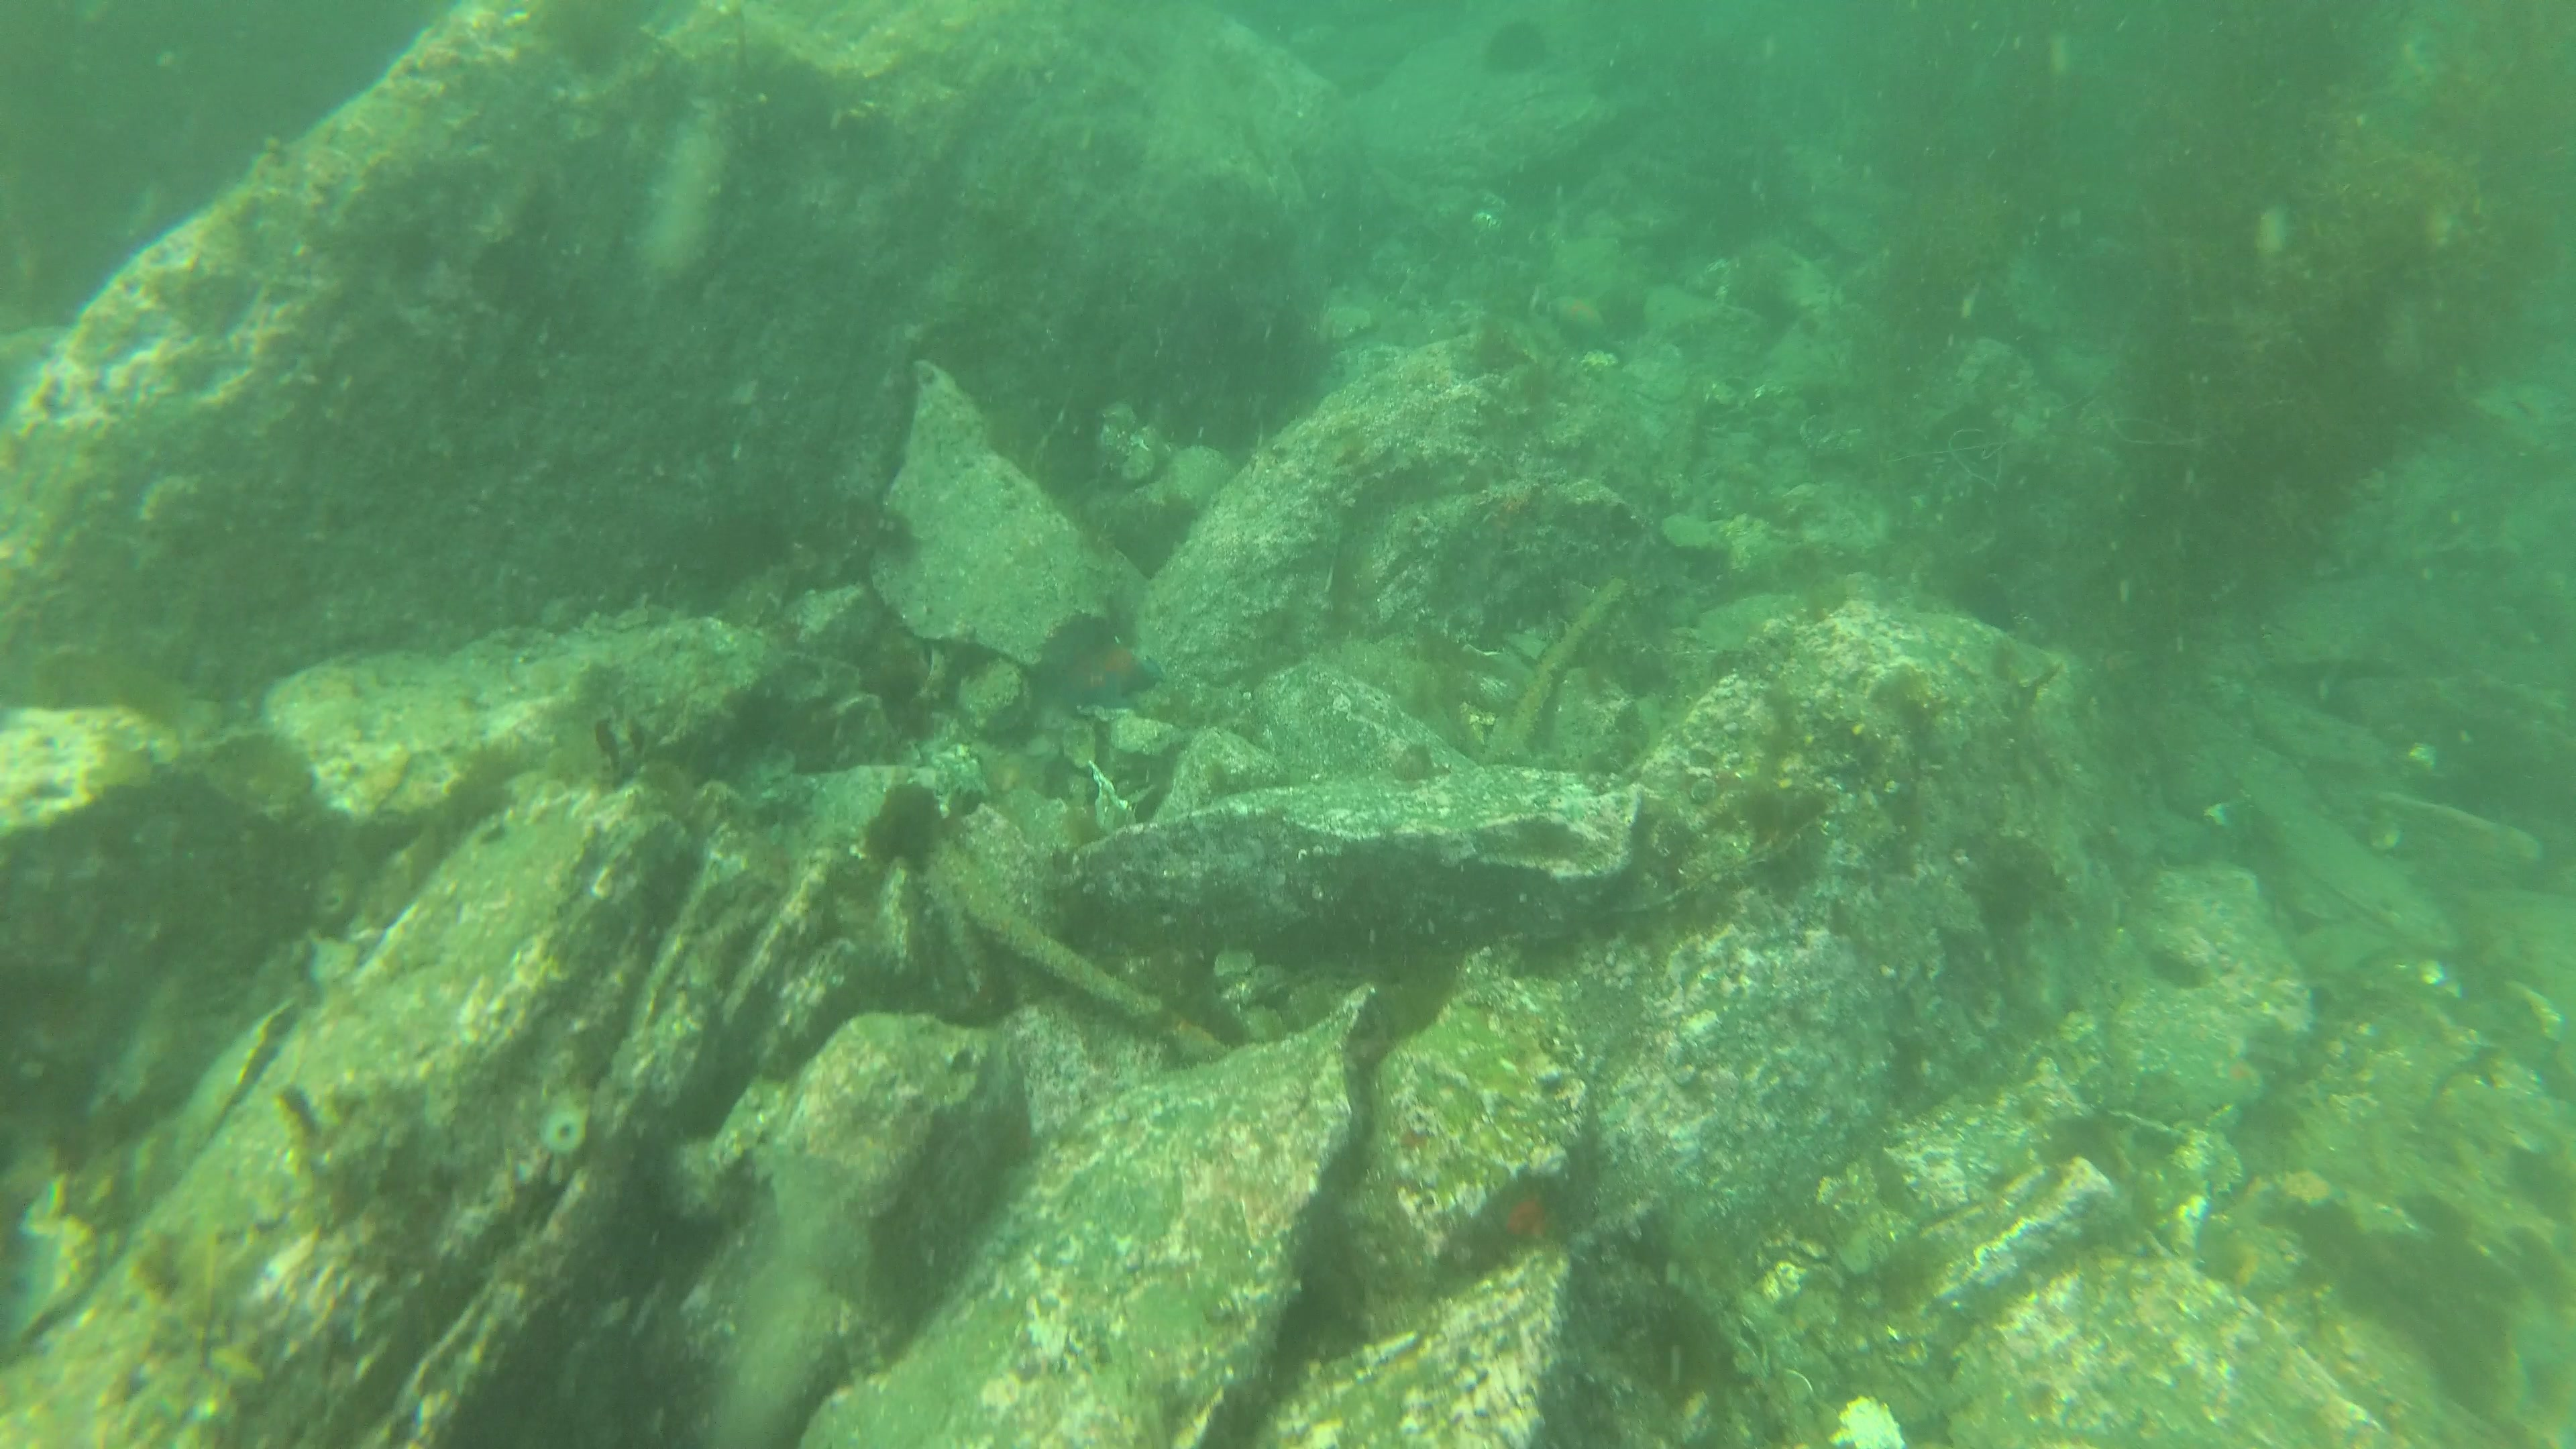echinus: (1476, 14, 1555, 69)
starfish: (1049, 626, 1166, 715)
